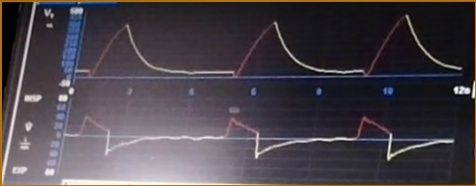Flow: (68, 113, 451, 174)
Leakage Volume: (83, 14, 463, 84)
